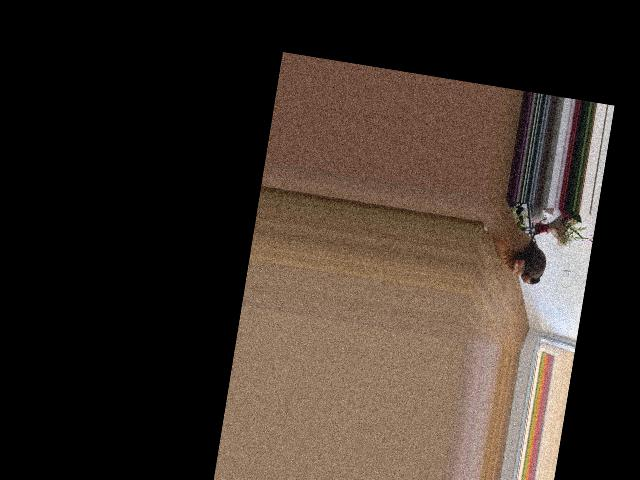beet: (519, 216, 552, 286)
